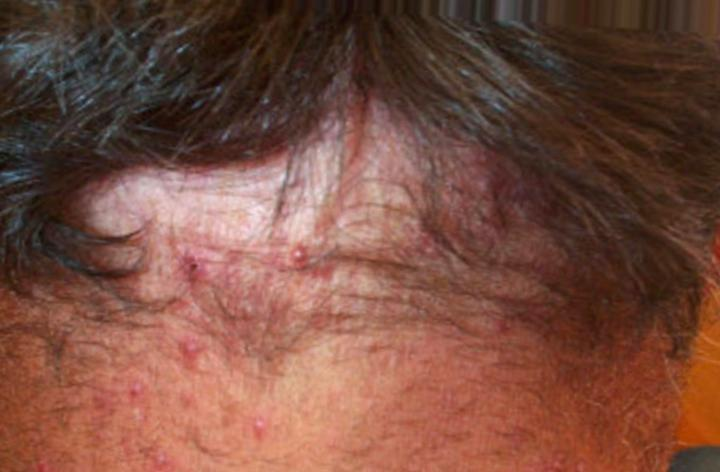Folliculitis: (118, 165, 578, 332)
